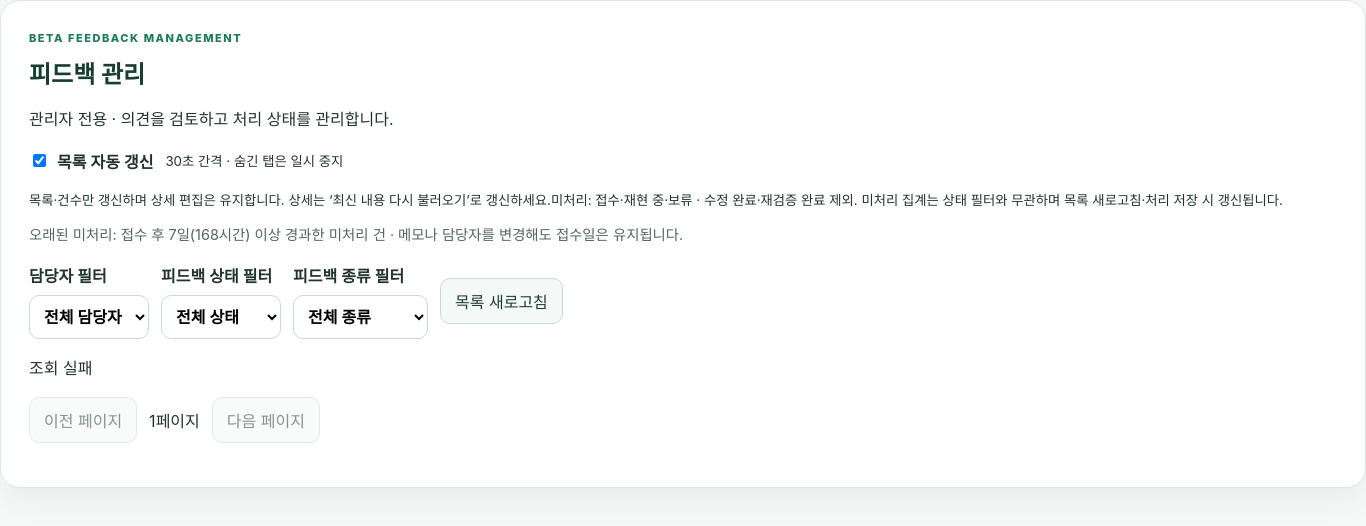
Test case: list failure can be retried and empty feedback is explicit
Expected: the text "조회 실패" is shown, x1=29 y1=358 x2=92 y2=378
What coordinates should you click on to do the following:
click the button "목록 새로고침"
I would click on:
 (501, 301)
Its box is x1=440 y1=278 x2=563 y2=324.
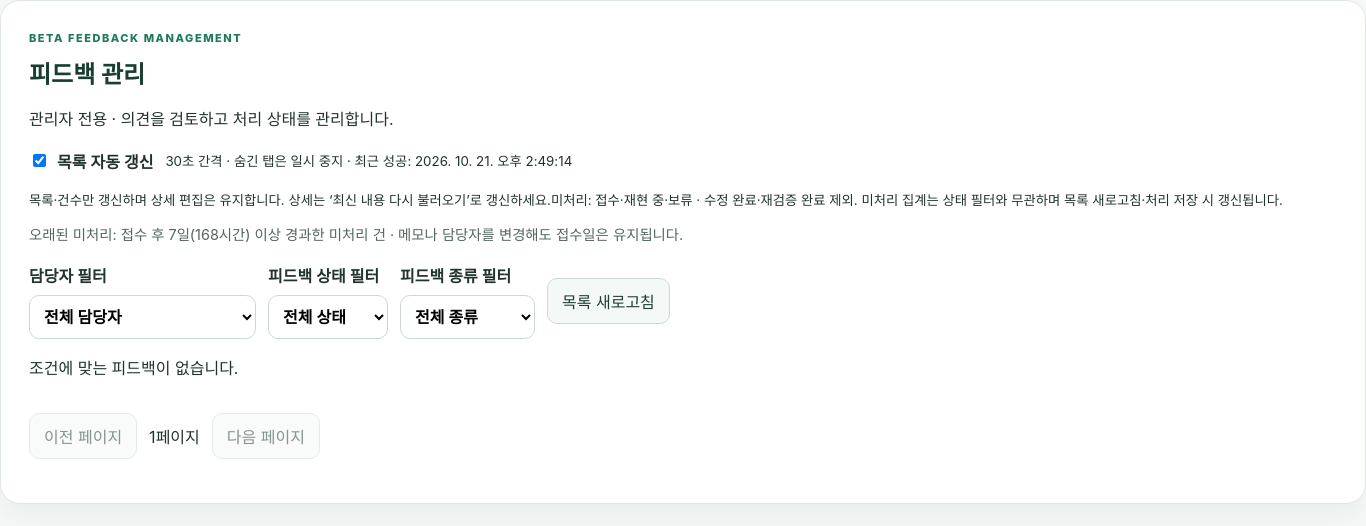
Expected: the text "조건에 맞는 피드백이 없습니다." is shown, x1=29 y1=358 x2=238 y2=378
